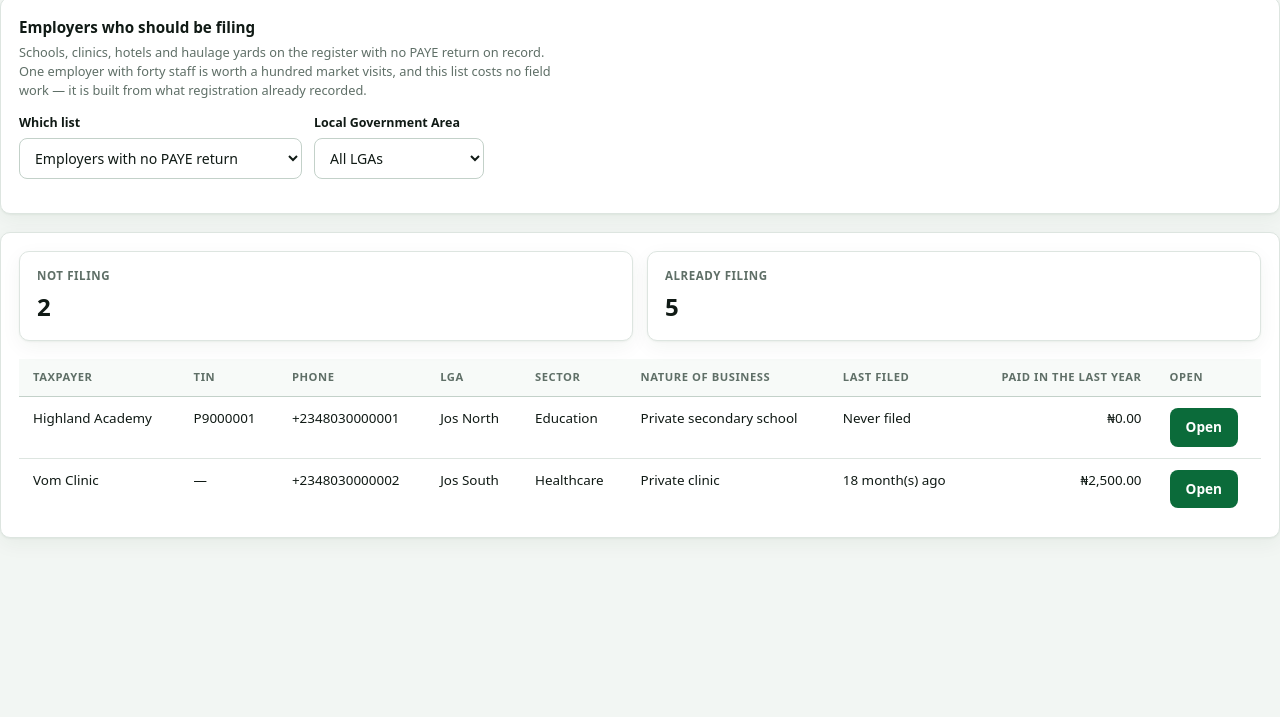
Test: an employer whose history could not be read › still says so when they really never have
This screenshot has width=1280, height=717.
Expected: the text "Highland Academy" is shown, [19,397,180,458]
Click the button "Open" in the row of "Highland Academy": (1204, 427) [1170,408,1238,446]
(page scrolled)
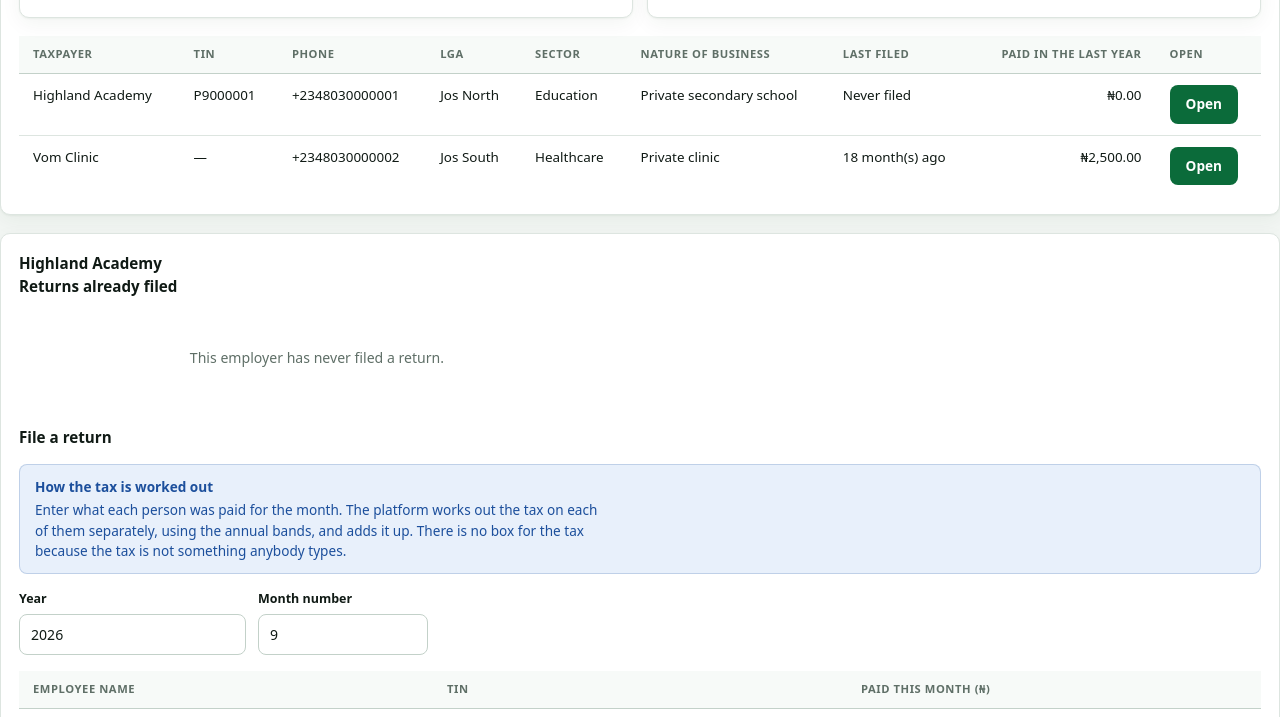
Result: the heading "File a return" is shown at [19,427,112,447]
Result: the text "This employer has never filed a return." is shown at [190,348,444,367]
